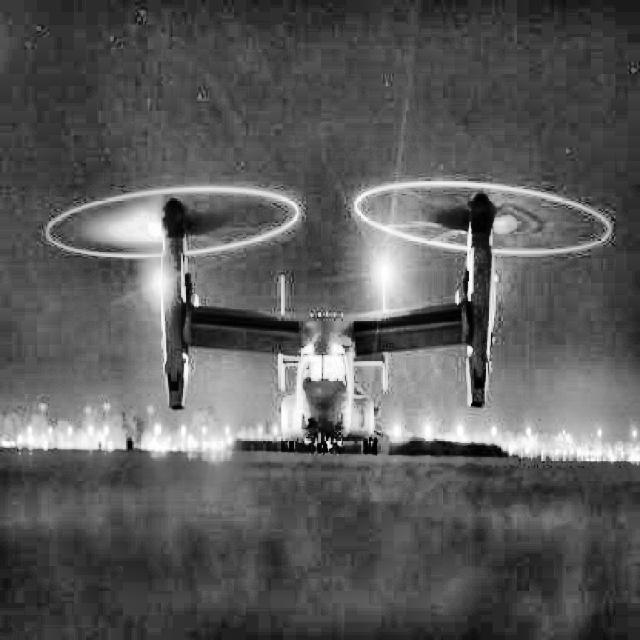V22: (46, 182, 612, 455)
